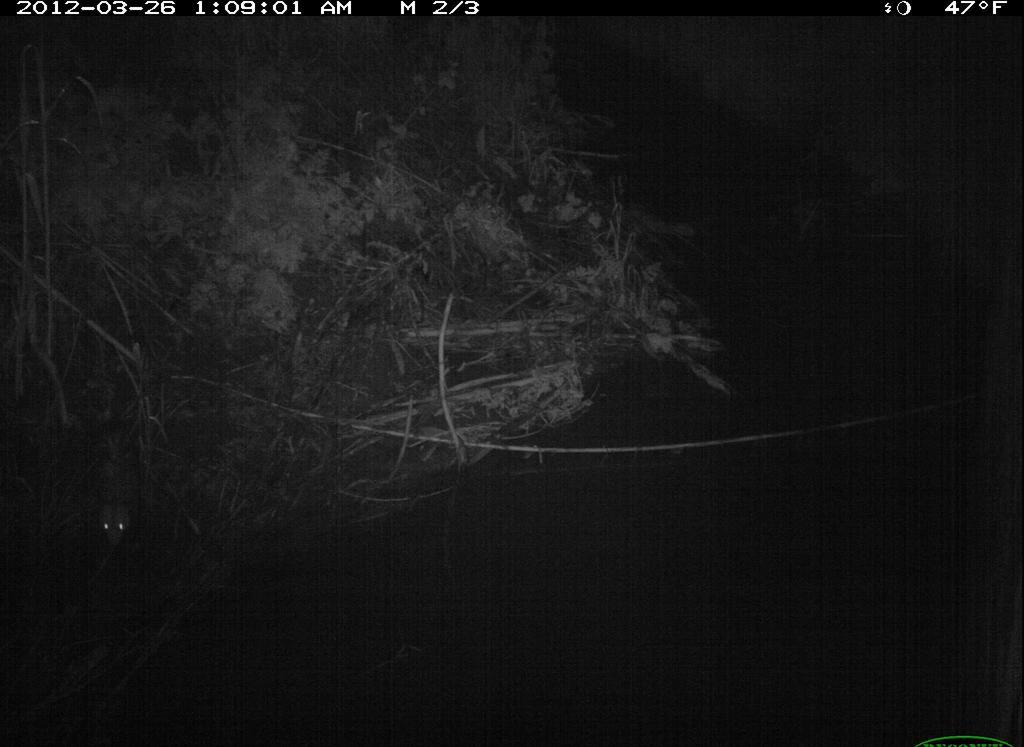opossum: (68, 438, 172, 575)
